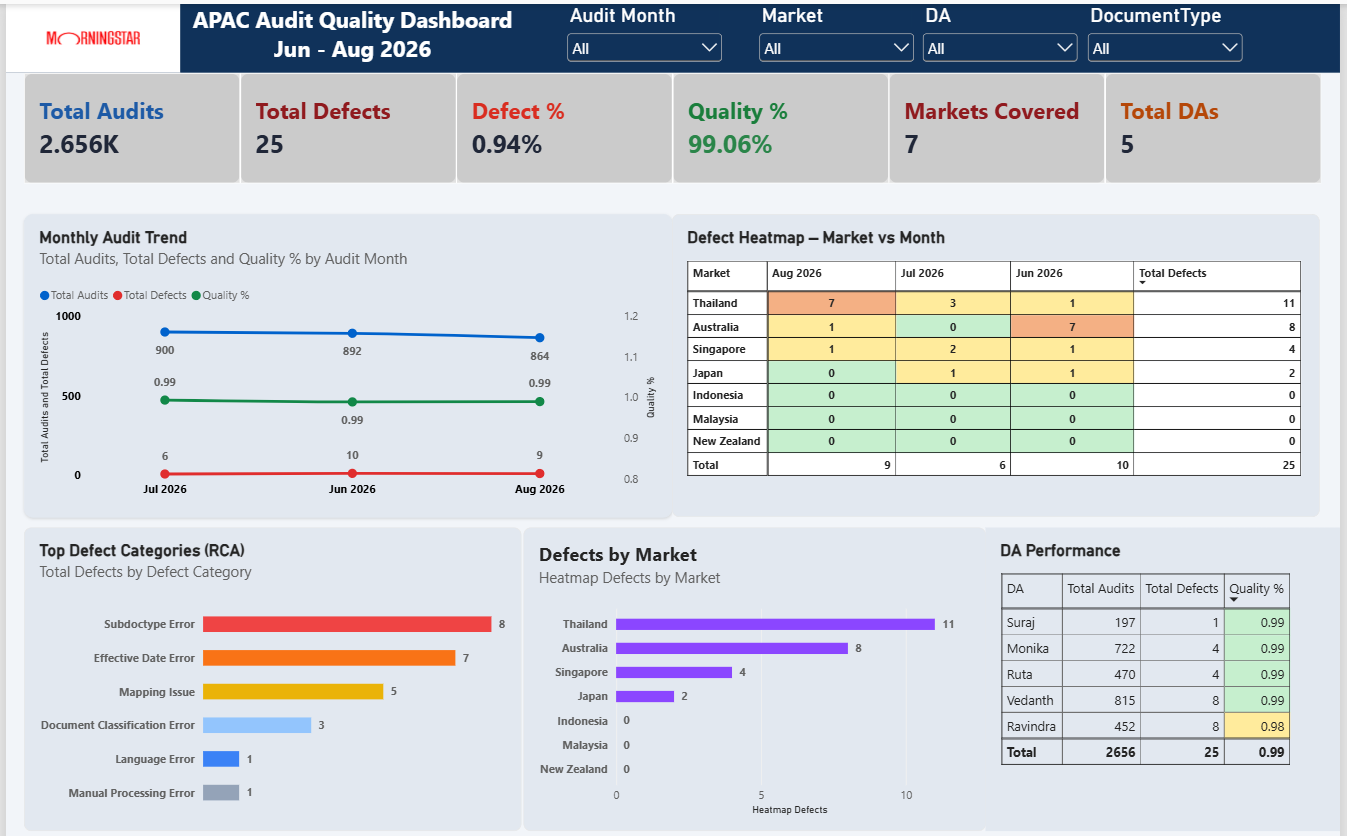

What the dashboard file says about the page in this screenshot:
{"tool":"powerbi","page":{"name":"Executive Dashboard","canvas":[1450,950],"ordinal":0},"visuals":[{"type":"shape","box":[0,0,1450,74.9],"z":0},{"type":"textbox","box":[176.6,0,401.3,74.9],"z":1000},{"type":"slicer","fields":{"Values":["All_Audit_Data.Audit Month"]},"box":[604.6,0,178.4,74.9],"z":2000},{"type":"cardVisual","fields":{"Data":["All_Audit_Data.Total Audits","All_Audit_Data.Total Defects","All_Audit_Data.Defect %","All_Audit_Data.Quality %","All_Audit_Data.Markets Covered","All_Audit_Data.Total DAs"]},"box":[19.6,74.9,1410,120],"z":3000},{"type":"slicer","fields":{"Values":["All_Audit_Data.DocumentType"]},"box":[1170,0,178.4,74.9],"z":4000},{"type":"slicer","fields":{"Values":["All_Audit_Data.DA"]},"box":[991.6,0,178.4,74.9],"z":5000},{"type":"slicer","fields":{"Values":["All_Audit_Data.Market"]},"box":[813.3,0,178.4,74.9],"z":6000},{"type":"lineChart","title":"Monthly Audit Trend","fields":{"Category":["All_Audit_Data.Audit Month"],"Y":["All_Audit_Data.Total Audits","All_Audit_Data.Total Defects"],"Y2":["All_Audit_Data.Quality %"]},"box":[19.6,228.3,704.5,330],"z":7000},{"type":"pivotTable","title":"Defect Heatmap – Market vs Month","fields":{"Columns":["All_Audit_Data.Audit Month"],"Rows":["All_Audit_Data.Market"],"Values":["All_Audit_Data.Heatmap Defects"]},"box":[723.9,228.3,704,329.4],"z":8000},{"type":"clusteredBarChart","title":"Top Defect Categories (RCA)","fields":{"Category":["All_Audit_Data.Defect Category"],"Y":["All_Audit_Data.Total Defects"]},"box":[19.6,568.9,540.4,330],"z":9000},{"type":"clusteredBarChart","title":"Defects by Market","fields":{"Category":["All_Audit_Data.Market"],"Y":["All_Audit_Data.Heatmap Defects"]},"box":[561.8,568.9,503,330],"z":10000},{"type":"tableEx","title":"DA Performance","fields":{"Values":["All_Audit_Data.DA","All_Audit_Data.Total Audits","All_Audit_Data.Total Defects","All_Audit_Data.Quality %"]},"box":[1064.8,568.9,385.2,330],"z":11000},{"type":"image","box":[0,0,189.1,74.9],"z":12000}]}

Visuals, with their boxes on the page's 1450x950 design canvas (x1, y1, x2, y2). These are canvas units, not pixel positions in the 1347x836 screenshot, which may show the page scaled, cropped or inside an application window:
shape: <bbox>0, 0, 1450, 75</bbox>
textbox: <bbox>177, 0, 578, 75</bbox>
slicer - All_Audit_Data.Audit Month: <bbox>605, 0, 783, 75</bbox>
cardVisual - All_Audit_Data.Total Audits x All_Audit_Data.Total Defects: <bbox>20, 75, 1430, 195</bbox>
slicer - All_Audit_Data.DocumentType: <bbox>1170, 0, 1348, 75</bbox>
slicer - All_Audit_Data.DA: <bbox>992, 0, 1170, 75</bbox>
slicer - All_Audit_Data.Market: <bbox>813, 0, 992, 75</bbox>
"Monthly Audit Trend" lineChart: <bbox>20, 228, 724, 558</bbox>
"Defect Heatmap – Market vs Month" pivotTable: <bbox>724, 228, 1428, 558</bbox>
"Top Defect Categories (RCA)" clusteredBarChart: <bbox>20, 569, 560, 899</bbox>
"Defects by Market" clusteredBarChart: <bbox>562, 569, 1065, 899</bbox>
"DA Performance" tableEx: <bbox>1065, 569, 1450, 899</bbox>
image: <bbox>0, 0, 189, 75</bbox>
